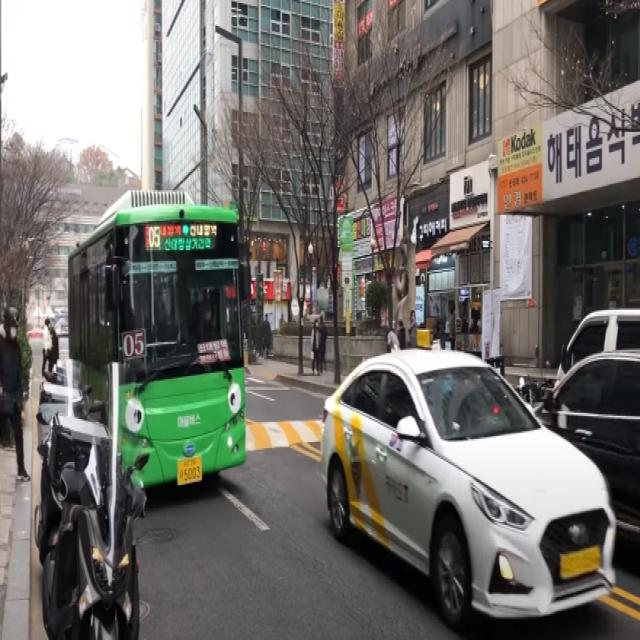bus-number: (148, 224, 160, 248)
